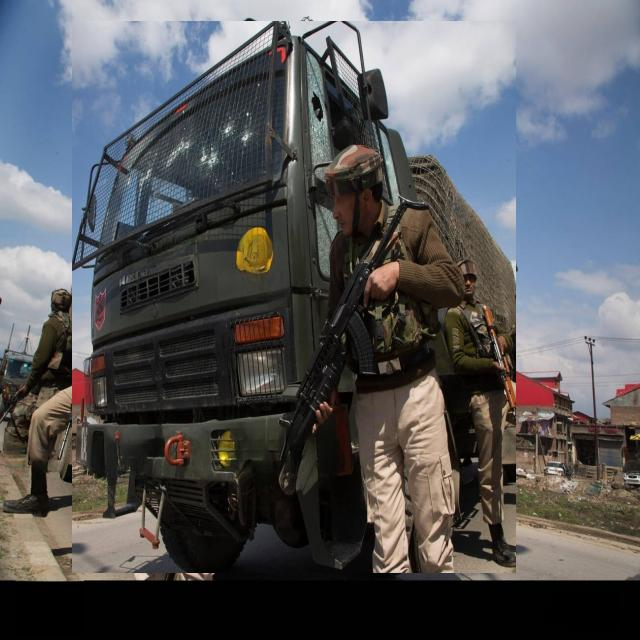truck: (72, 22, 516, 573)
